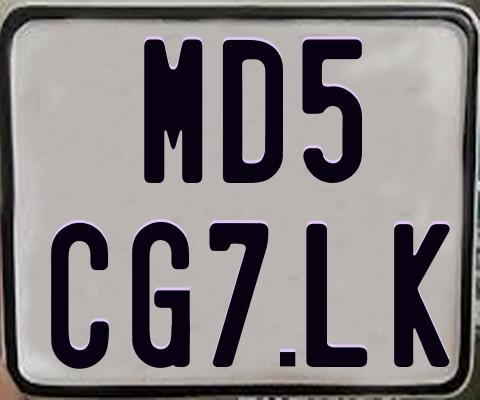5: (301, 39, 365, 183)
7: (209, 221, 275, 366)
C: (49, 221, 109, 369)
D: (221, 38, 283, 185)
G: (130, 221, 190, 370)
K: (394, 221, 450, 367)
L: (304, 222, 370, 371)
M: (142, 37, 204, 181)
